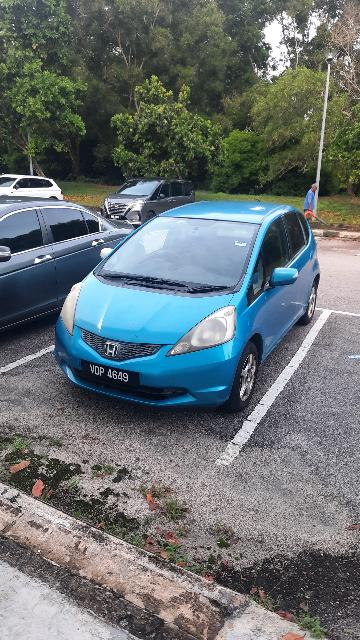License_Plate: (81, 356, 146, 393)
car: (51, 193, 327, 411)
